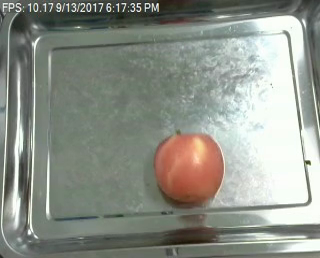Apple: (153, 132, 224, 201)
